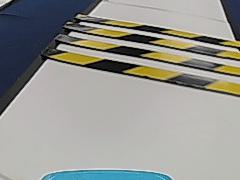bump: (42, 12, 240, 95)
